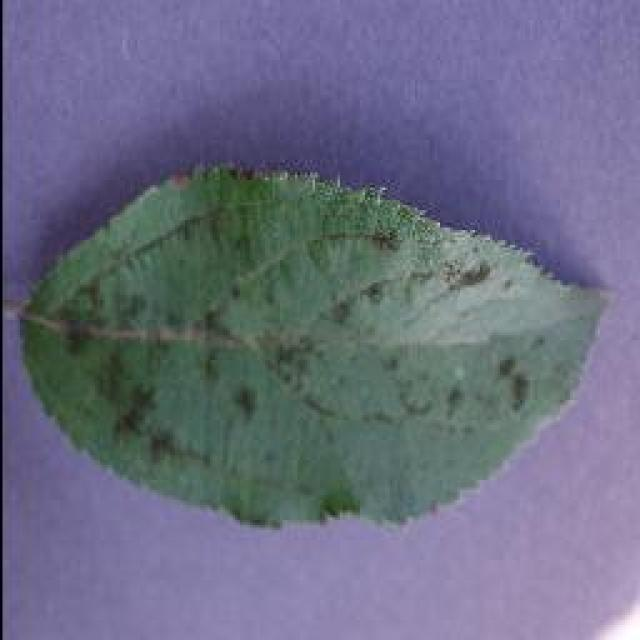apple scab disease: (15, 158, 613, 532)
